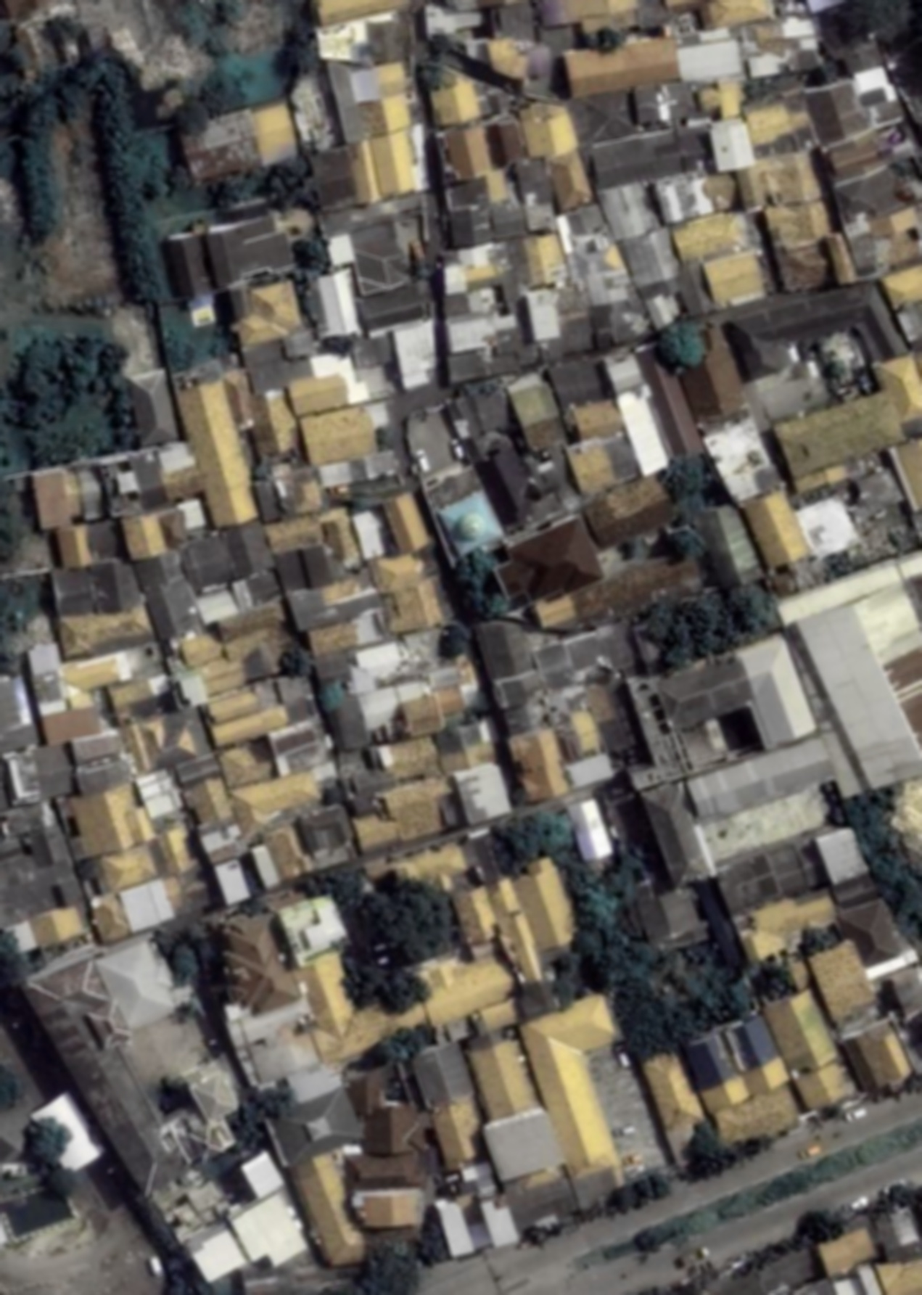building: (14, 955, 193, 1199), (774, 550, 922, 801), (604, 630, 818, 792), (512, 991, 663, 1200), (787, 596, 922, 798), (716, 277, 905, 381), (529, 541, 705, 648), (69, 821, 215, 948), (17, 945, 134, 1073), (683, 731, 839, 827), (171, 373, 264, 532), (429, 253, 538, 385), (470, 610, 568, 753), (770, 384, 909, 483), (253, 1057, 366, 1170), (485, 512, 607, 616), (201, 903, 304, 1025), (306, 122, 433, 218), (219, 982, 329, 1092), (475, 430, 585, 539), (674, 10, 823, 90), (88, 923, 193, 1036), (174, 96, 303, 187), (728, 632, 819, 751), (309, 985, 429, 1072), (287, 1149, 370, 1274), (635, 1047, 717, 1163), (411, 942, 520, 1029), (552, 208, 639, 317), (416, 461, 508, 564), (0, 819, 86, 927), (585, 120, 715, 191), (665, 322, 752, 428), (346, 773, 459, 853), (577, 467, 681, 553), (733, 885, 844, 965), (195, 205, 297, 292), (637, 777, 715, 889), (634, 342, 705, 463), (528, 613, 636, 692), (60, 777, 156, 864), (698, 411, 783, 508), (559, 33, 682, 99), (435, 166, 529, 251), (506, 854, 584, 956), (460, 1026, 540, 1124), (224, 1188, 312, 1277), (759, 986, 841, 1080), (72, 446, 169, 525), (440, 374, 524, 464), (480, 877, 547, 989), (292, 949, 369, 1046), (829, 886, 910, 975), (479, 1103, 566, 1185), (691, 499, 766, 594), (801, 938, 881, 1027), (213, 601, 299, 683), (28, 1090, 107, 1178), (312, 7, 417, 73), (153, 1093, 237, 1174), (283, 570, 384, 637), (738, 486, 812, 574), (273, 888, 352, 969), (841, 203, 922, 282), (840, 1018, 918, 1100), (709, 1083, 803, 1151), (49, 556, 143, 623), (223, 276, 305, 350), (229, 766, 326, 828), (820, 120, 911, 186), (387, 837, 474, 906), (302, 337, 382, 411), (502, 369, 570, 456), (831, 161, 919, 228), (498, 1162, 581, 1233), (733, 149, 822, 214), (55, 604, 155, 661), (296, 402, 380, 469), (482, 443, 547, 529), (614, 384, 673, 477), (5, 898, 90, 962), (505, 725, 572, 806), (801, 74, 874, 148), (176, 1053, 248, 1128), (527, 283, 596, 361), (63, 725, 136, 798), (724, 309, 795, 384), (668, 206, 753, 268), (406, 1037, 476, 1112), (0, 740, 77, 807), (425, 1096, 491, 1173), (632, 885, 709, 951), (434, 488, 505, 559), (353, 278, 435, 337), (471, 612, 537, 685), (793, 492, 861, 562), (303, 606, 388, 662), (281, 71, 337, 156), (567, 85, 641, 149), (293, 802, 359, 872), (239, 333, 312, 396), (399, 405, 459, 480), (616, 226, 683, 293), (596, 176, 662, 244), (124, 367, 179, 448), (146, 705, 213, 771), (140, 576, 205, 644), (508, 737, 572, 805), (272, 539, 347, 597), (700, 248, 769, 311), (347, 232, 413, 297), (515, 96, 579, 163), (380, 576, 448, 639), (83, 844, 160, 898), (451, 759, 513, 826), (431, 716, 500, 776), (208, 701, 292, 750), (320, 57, 366, 146), (265, 716, 331, 778), (367, 127, 423, 200), (165, 1174, 230, 1236), (26, 464, 85, 532), (185, 1224, 249, 1286), (160, 229, 214, 302), (562, 795, 617, 866), (741, 93, 812, 148), (810, 822, 869, 888), (389, 318, 442, 391), (677, 1030, 737, 1094), (586, 293, 652, 351), (811, 1224, 879, 1280), (177, 531, 238, 593), (840, 463, 905, 521), (790, 1058, 856, 1115), (341, 1060, 403, 1120), (721, 1012, 780, 1075), (474, 27, 538, 85), (151, 437, 207, 503), (104, 672, 173, 725), (651, 168, 714, 226), (762, 200, 832, 252), (448, 882, 502, 949), (378, 490, 432, 557), (873, 354, 921, 429), (269, 460, 327, 522), (582, 680, 630, 754), (116, 876, 177, 934), (771, 235, 832, 293), (374, 733, 442, 785), (247, 389, 298, 458), (541, 149, 595, 214), (425, 70, 483, 130), (311, 268, 360, 339), (202, 680, 276, 727), (563, 437, 619, 499), (675, 36, 744, 86), (215, 737, 277, 792), (345, 1149, 428, 1190), (259, 821, 313, 884), (872, 960, 922, 1027), (868, 1202, 922, 1264), (350, 1186, 426, 1230), (438, 124, 494, 183), (551, 705, 606, 765), (284, 369, 351, 418), (321, 692, 373, 755), (222, 519, 275, 580), (181, 774, 236, 832), (362, 1102, 421, 1156), (310, 0, 424, 27), (432, 1193, 477, 1260), (37, 702, 104, 747), (705, 115, 756, 174), (668, 259, 716, 321), (522, 230, 570, 291), (133, 766, 184, 823), (263, 511, 326, 556), (566, 396, 625, 444), (24, 641, 68, 705), (235, 1148, 287, 1202), (351, 638, 412, 684), (119, 719, 169, 775), (537, 0, 637, 28), (358, 91, 416, 139), (827, 33, 886, 80), (318, 512, 364, 572), (118, 509, 169, 563), (628, 82, 686, 129), (60, 652, 123, 695), (195, 651, 250, 700), (272, 668, 320, 724), (84, 891, 132, 946), (849, 61, 899, 112), (394, 691, 446, 740), (510, 156, 555, 212), (477, 1193, 521, 1250), (297, 539, 345, 591), (355, 683, 405, 732), (490, 670, 546, 713), (739, 1055, 792, 1100), (484, 115, 529, 168), (230, 568, 283, 613), (889, 438, 921, 512), (174, 626, 225, 672), (819, 230, 859, 288), (349, 506, 391, 561), (487, 0, 536, 47), (370, 552, 426, 593), (132, 549, 185, 592), (694, 79, 746, 122), (698, 1074, 751, 1116), (343, 762, 397, 803), (51, 522, 95, 572), (246, 473, 288, 525), (563, 751, 616, 791), (877, 264, 922, 311), (211, 856, 252, 907), (699, 0, 773, 28), (193, 584, 241, 627), (367, 58, 412, 100), (197, 819, 245, 858), (424, 4, 482, 36), (49, 956, 99, 993), (197, 1115, 238, 1157), (247, 841, 282, 890), (873, 1259, 921, 1294), (870, 206, 921, 236), (432, 680, 471, 719), (518, 289, 551, 334), (350, 335, 393, 369), (312, 650, 353, 685), (702, 172, 737, 212), (744, 49, 787, 80), (780, 15, 818, 49), (175, 496, 207, 533), (325, 232, 356, 268), (896, 303, 921, 346), (635, 0, 671, 29), (854, 1263, 883, 1295), (832, 1278, 861, 1294), (350, 72, 363, 101)
tree: (87, 68, 163, 305), (355, 861, 467, 976), (14, 26, 123, 138), (554, 853, 627, 938), (149, 911, 224, 990), (580, 923, 655, 1001), (491, 806, 575, 873), (334, 955, 429, 1014), (15, 125, 63, 238), (256, 151, 321, 219), (654, 447, 718, 511), (681, 586, 740, 652), (374, 1012, 437, 1073), (718, 576, 780, 635), (603, 975, 662, 1036), (309, 857, 370, 916), (172, 0, 241, 52), (16, 334, 64, 401), (15, 1114, 69, 1172), (613, 1166, 674, 1217), (203, 167, 269, 214), (445, 538, 499, 594), (60, 332, 105, 399), (133, 1192, 180, 1255), (840, 1, 909, 42), (356, 1247, 419, 1291), (200, 66, 254, 116), (11, 390, 78, 430), (864, 840, 915, 891), (152, 329, 204, 379), (679, 1118, 728, 1167), (640, 598, 688, 648), (836, 789, 887, 836), (756, 1165, 811, 1208), (406, 1221, 454, 1270), (605, 844, 646, 901), (655, 319, 703, 367), (749, 953, 797, 1001), (31, 430, 78, 477), (63, 418, 109, 464), (37, 6, 82, 53), (621, 1018, 669, 1062), (280, 19, 318, 74), (430, 618, 474, 665), (42, 1159, 87, 1204), (273, 639, 317, 685), (666, 520, 709, 564), (156, 1242, 200, 1285), (659, 629, 701, 674), (227, 1099, 262, 1153), (624, 1222, 666, 1267), (1, 928, 31, 989), (854, 819, 897, 861), (251, 1081, 295, 1120), (887, 877, 921, 927), (193, 1146, 238, 1183), (309, 676, 349, 716), (802, 1207, 848, 1241), (715, 979, 753, 1020), (875, 1177, 916, 1214), (689, 990, 727, 1029), (175, 95, 212, 135), (92, 339, 128, 379), (799, 919, 836, 956), (170, 988, 208, 1024), (200, 325, 238, 361), (106, 370, 130, 426), (818, 546, 854, 583), (412, 54, 450, 89), (554, 953, 580, 1003), (466, 591, 511, 619), (673, 496, 713, 527), (63, 132, 98, 167), (0, 72, 30, 112), (683, 937, 718, 970), (0, 1062, 25, 1108), (243, 877, 271, 917), (459, 689, 491, 722), (142, 171, 173, 204), (157, 1077, 190, 1108), (618, 533, 650, 564), (663, 1009, 693, 1041), (293, 237, 327, 263), (425, 27, 454, 57), (884, 521, 913, 551), (572, 927, 601, 956), (324, 328, 354, 356), (810, 57, 839, 85), (4, 42, 32, 70), (318, 781, 347, 808), (112, 423, 138, 449), (348, 491, 372, 517), (587, 29, 621, 47), (169, 162, 189, 192), (372, 425, 396, 449), (464, 378, 500, 394), (744, 79, 769, 102), (194, 1279, 230, 1294), (1, 142, 15, 175), (23, 431, 44, 452), (851, 369, 872, 389), (824, 357, 844, 376), (0, 18, 10, 50), (168, 1278, 190, 1292), (414, 265, 430, 279), (299, 295, 314, 309)
